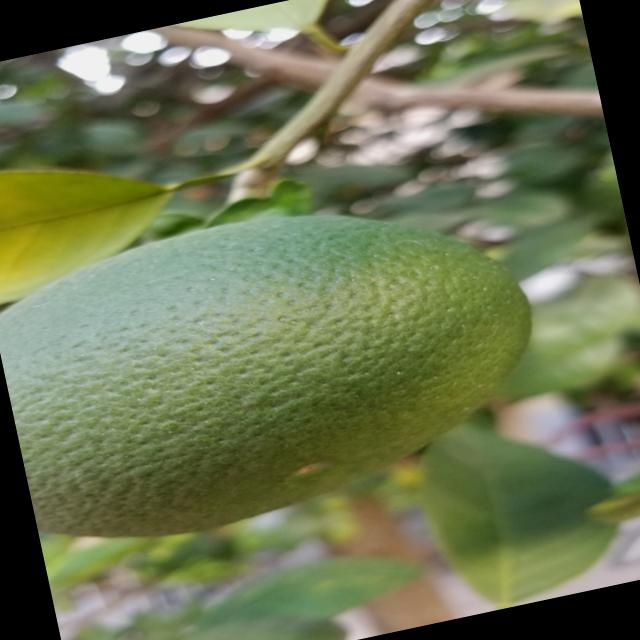agrume: (0, 156, 564, 562)
